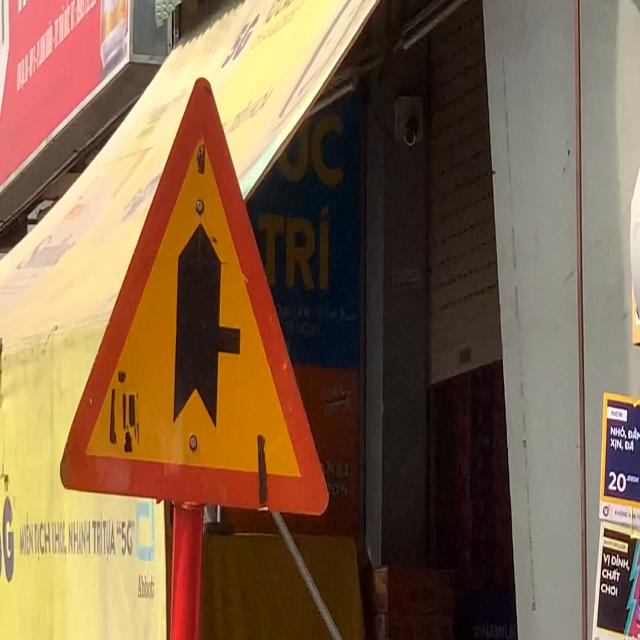W.207b: (56, 68, 332, 524)
